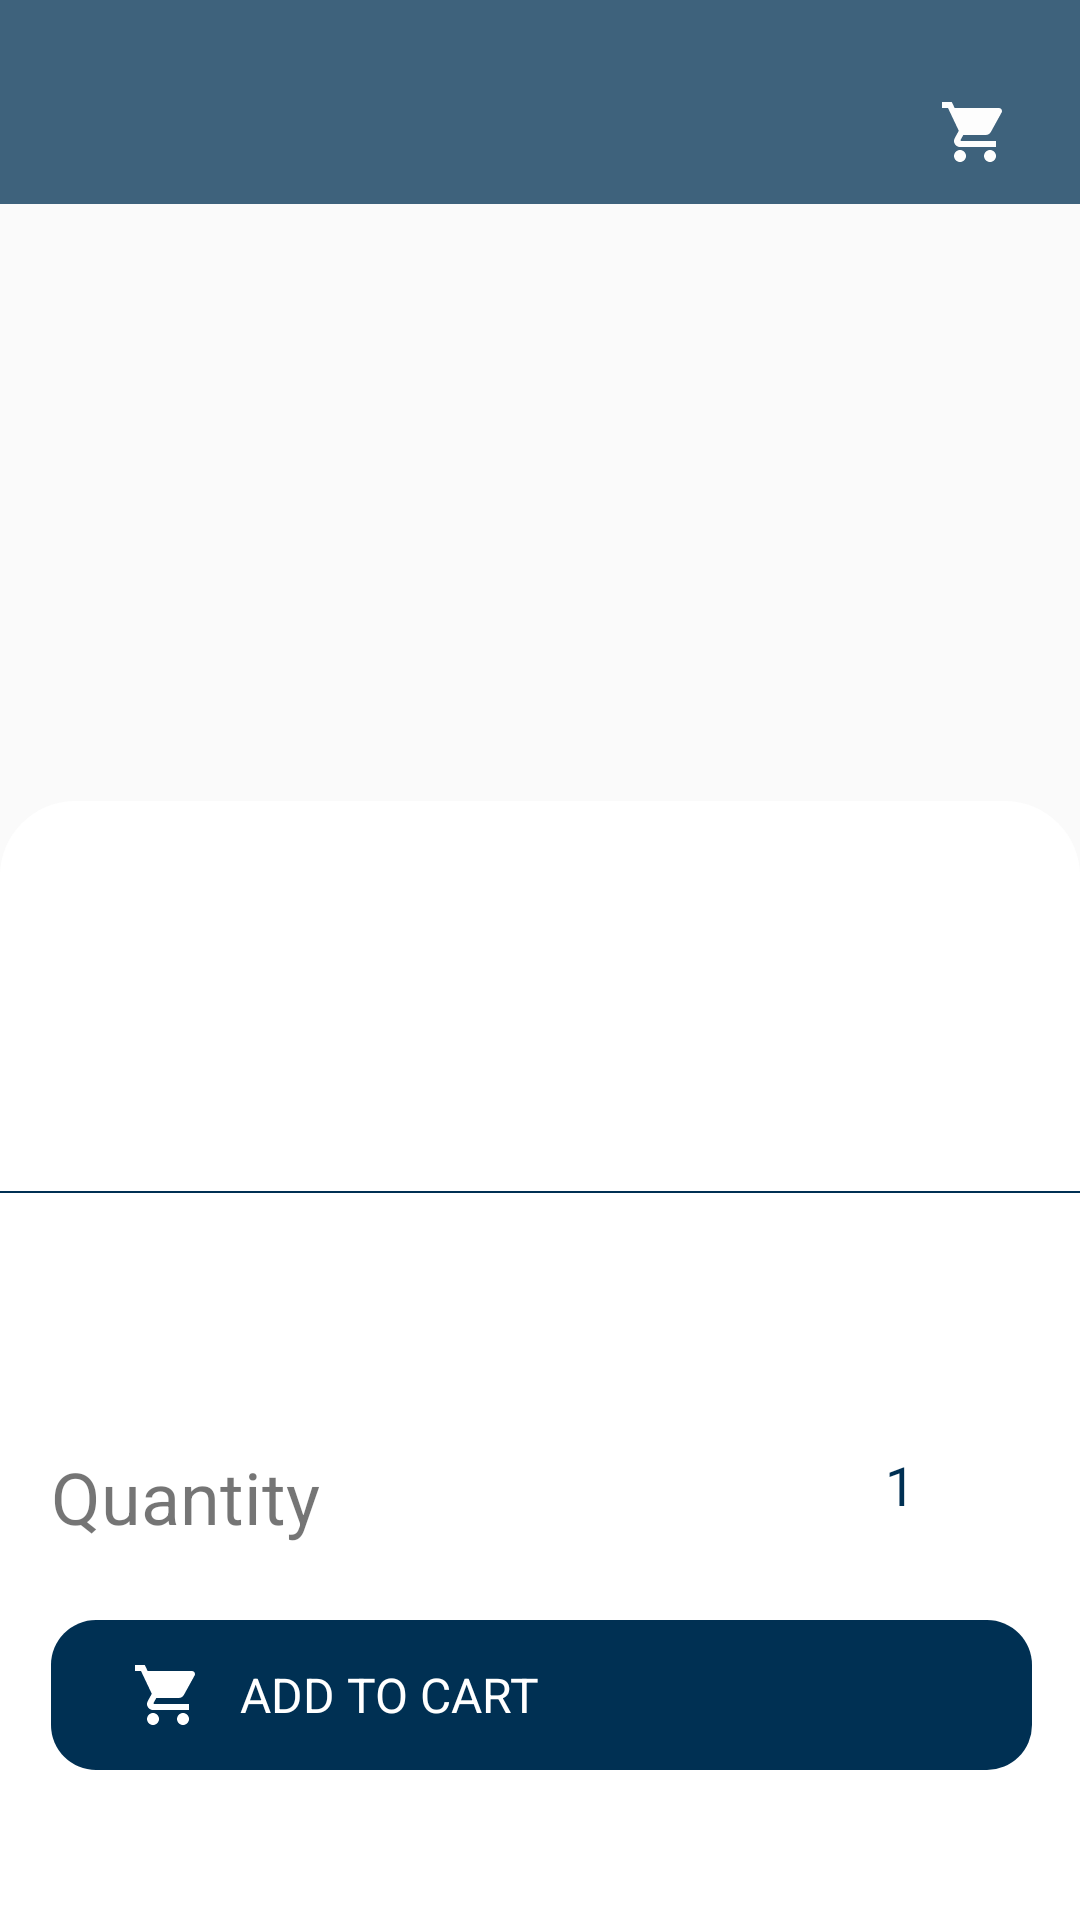

Screen size 1080×1920. Icon name, then its box in pixels as [x1,y1,x2,y2]:
shopping cart: [942,102,1002,162], [135,1665,195,1725]
